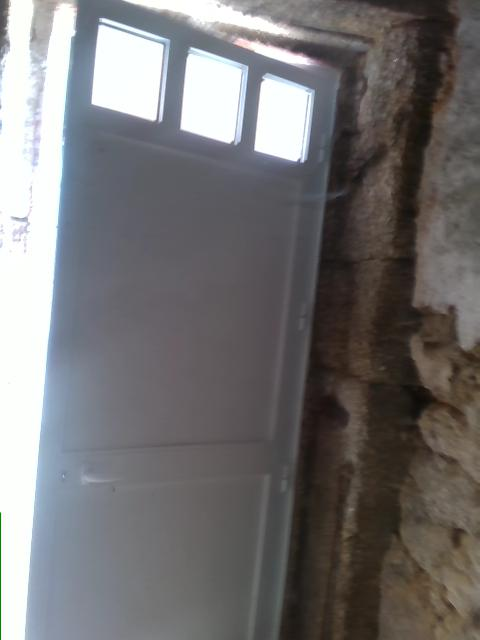door: (2, 1, 353, 637)
